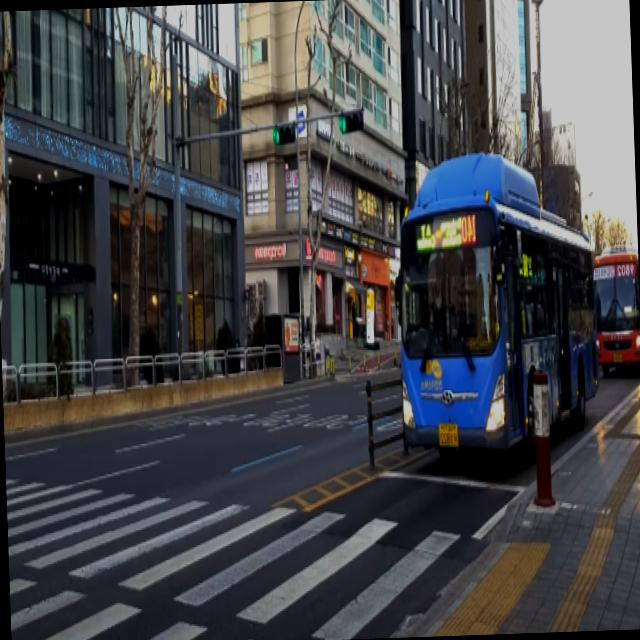bus-number: (461, 214, 476, 244), (616, 262, 634, 278)
